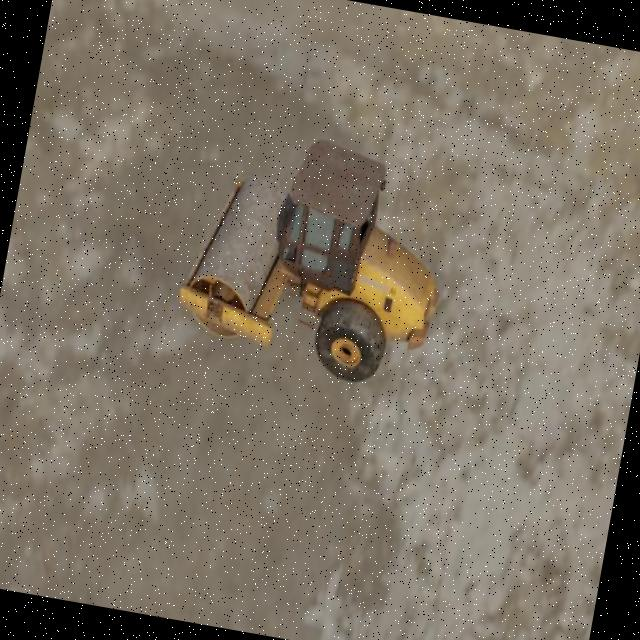Roller: (168, 118, 462, 394)
